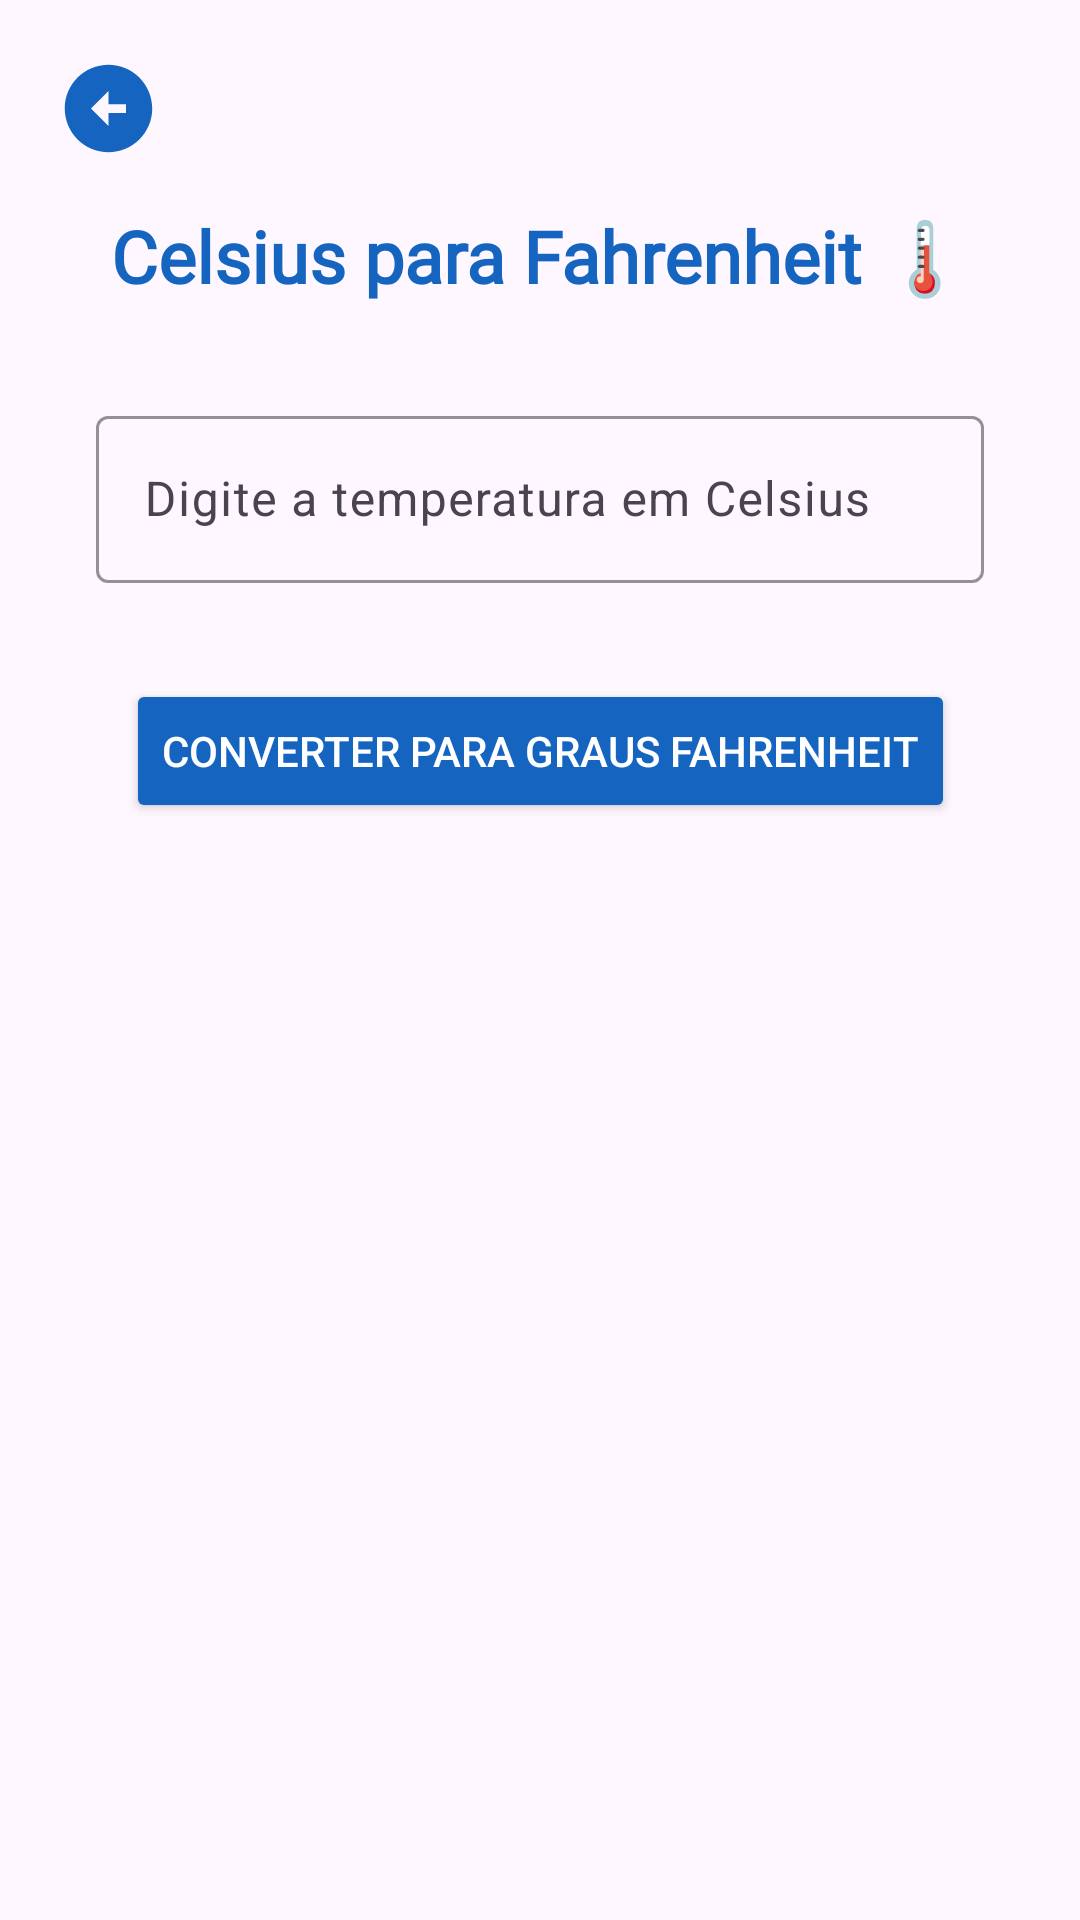

Point at icon controls on the screen. Image size 1080w x 1920h, points as point (x, y).
Voltar: point (108, 108)
